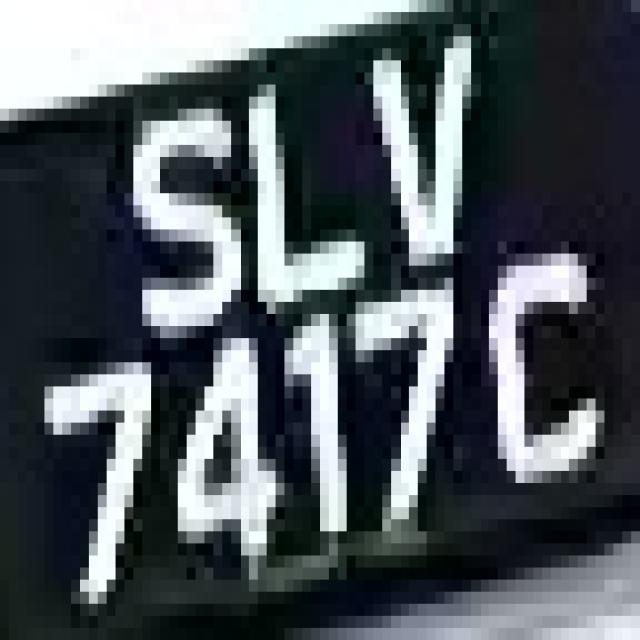1: (266, 326, 356, 568)
4: (134, 350, 276, 592)
7: (9, 338, 151, 640), (329, 230, 444, 556)
C: (471, 230, 605, 520)
L: (222, 73, 364, 350)
S: (116, 61, 240, 350)
V: (356, 36, 516, 278)
